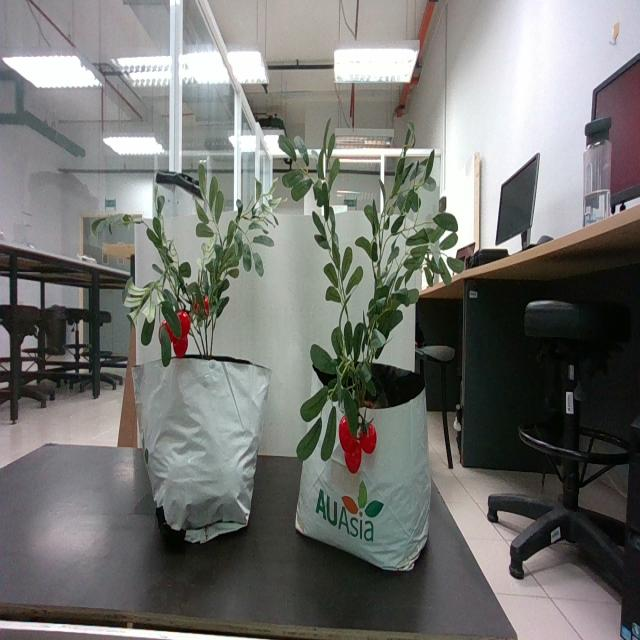Soilbag: (295, 366, 433, 572), (140, 354, 270, 544)
Tomato: (338, 416, 378, 475)
plant: (278, 122, 464, 475), (124, 177, 282, 367)
